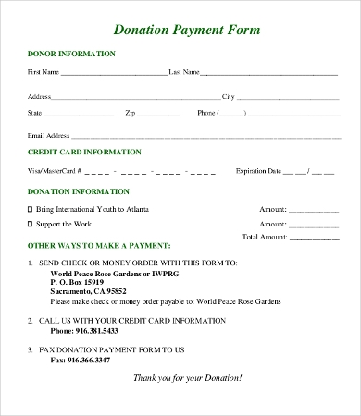checkbox: (26, 204, 33, 214), (27, 219, 34, 228)
textline: (68, 128, 343, 141), (51, 89, 221, 102), (81, 162, 219, 177), (198, 65, 339, 78), (58, 64, 170, 78), (215, 106, 343, 118), (234, 88, 341, 102), (282, 162, 336, 177), (42, 107, 115, 118), (247, 109, 339, 117), (288, 200, 339, 214), (135, 106, 185, 118), (287, 219, 341, 230), (288, 232, 341, 242), (154, 165, 184, 177), (84, 165, 111, 177), (121, 165, 148, 177), (190, 165, 217, 177), (282, 165, 306, 177), (311, 165, 335, 177), (217, 108, 244, 118), (293, 166, 306, 177), (311, 166, 323, 177), (323, 167, 335, 177), (283, 166, 293, 177), (83, 165, 91, 177), (140, 165, 148, 177), (202, 165, 209, 177), (91, 165, 98, 176), (154, 166, 161, 177), (168, 166, 175, 177), (209, 166, 216, 177), (98, 165, 104, 177), (104, 165, 110, 177), (121, 165, 127, 177), (134, 165, 140, 177), (127, 166, 133, 177), (161, 166, 167, 177), (176, 167, 182, 177), (190, 167, 196, 177), (197, 166, 202, 177)
